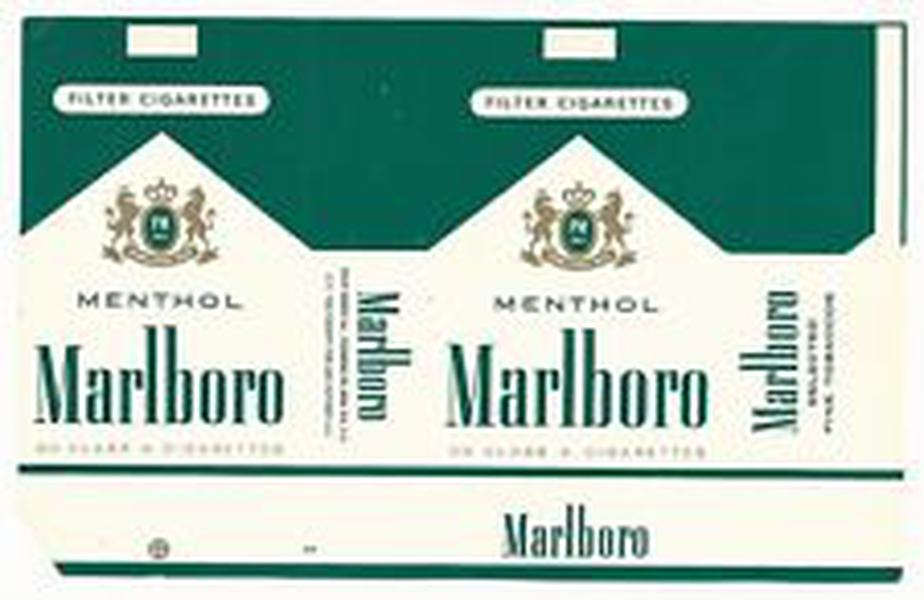marlboro_mentol: (423, 24, 726, 485), (19, 20, 313, 485)
